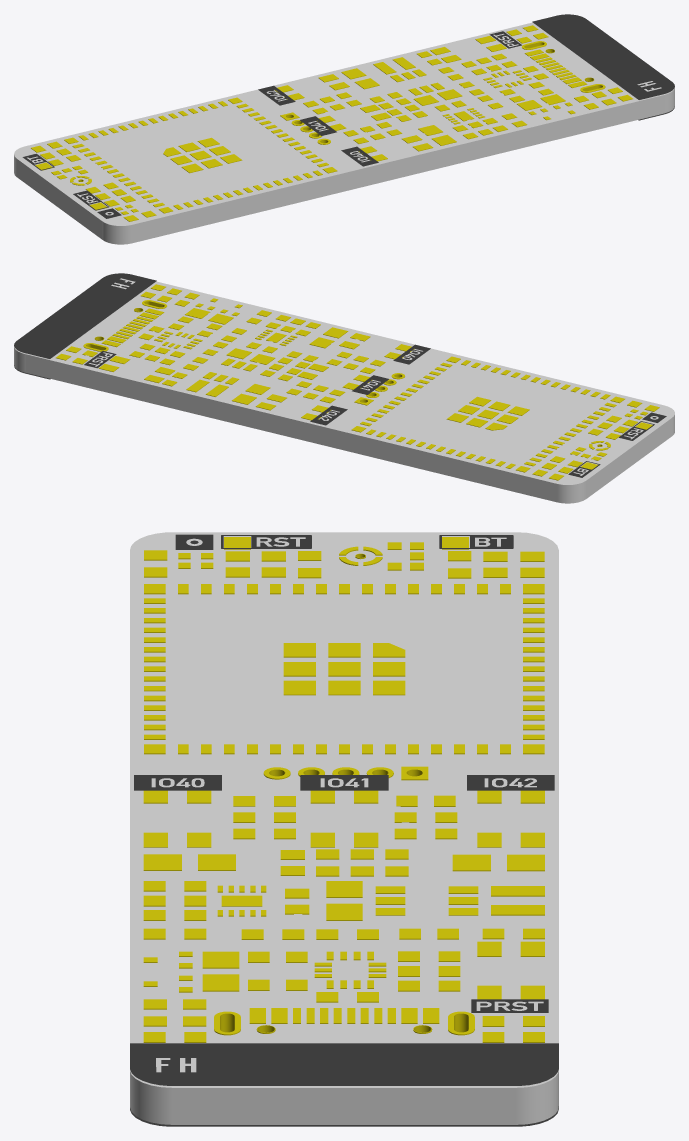
File: testboard.glb
3 renders of one model, top to bottom at view 1: azimuth 30°, elevation 25°; view 2: azimuth 150°, elevation 25°; view 3: azimuth 270°, elevation 25°, orthographic. The views are drawn at different scales.
Visible parts, largest first — view 1: =>[0:1:1:4], =>[0:1:1:2], =>[0:1:1:3]; view 2: =>[0:1:1:4], =>[0:1:1:2], =>[0:1:1:3]; view 3: =>[0:1:1:4], =>[0:1:1:2], =>[0:1:1:3].
Part boxes in pixels (<box>): =>[0:1:1:4]: <box>14,22,674,244</box>; =>[0:1:1:2]: <box>31,25,632,221</box>; =>[0:1:1:3]: <box>22,14,674,218</box>; =>[0:1:1:4]: <box>14,278,674,503</box>; =>[0:1:1:2]: <box>56,284,659,480</box>; =>[0:1:1:3]: <box>14,273,666,477</box>; =>[0:1:1:4]: <box>130,532,558,1124</box>; =>[0:1:1:2]: <box>143,537,544,1042</box>; =>[0:1:1:3]: <box>130,534,558,1126</box>.
Size of the model in its own units: 0.0486 by 0.00166 by 0.0158.
